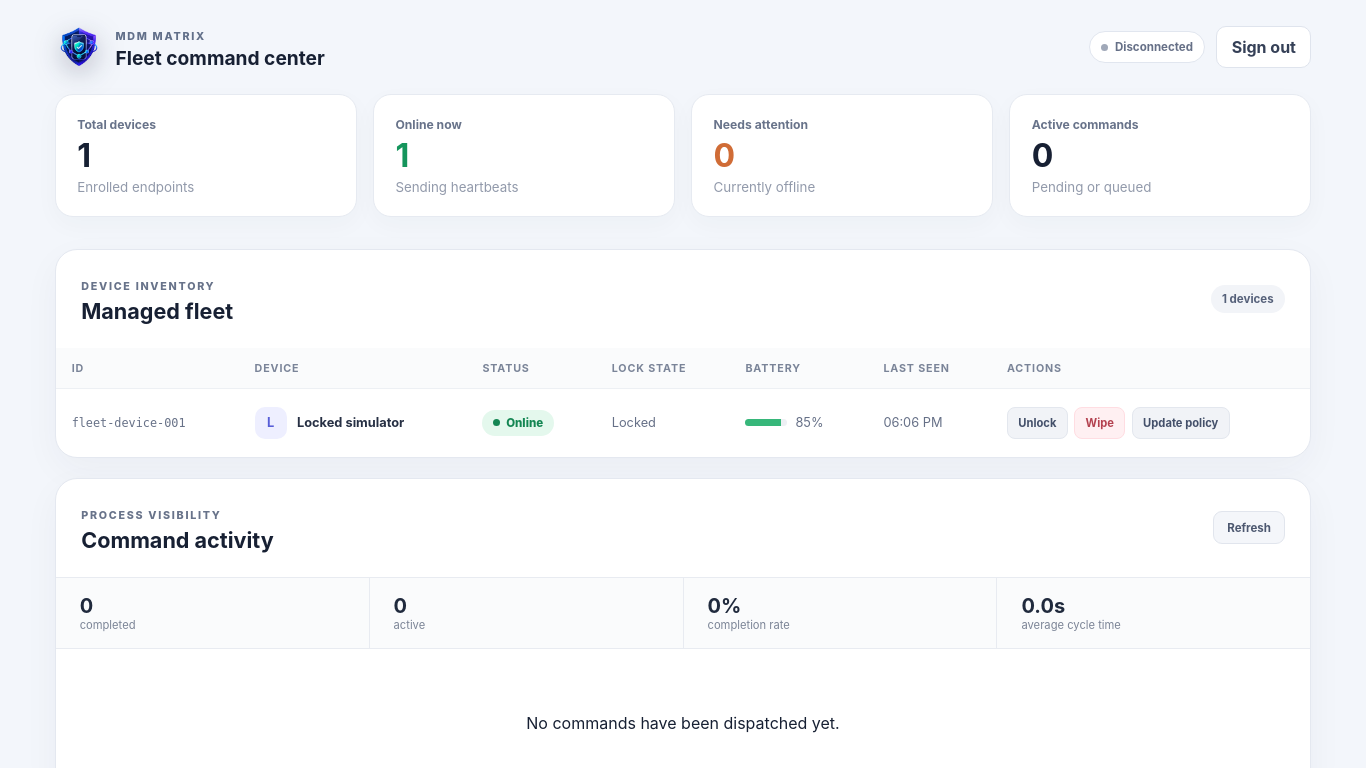
Scenario: MDM Matrix admin workflow › restores a locked device and offers Unlock after reload
Click the button "Unlock": (1038, 423) [1007,407,1068,438]
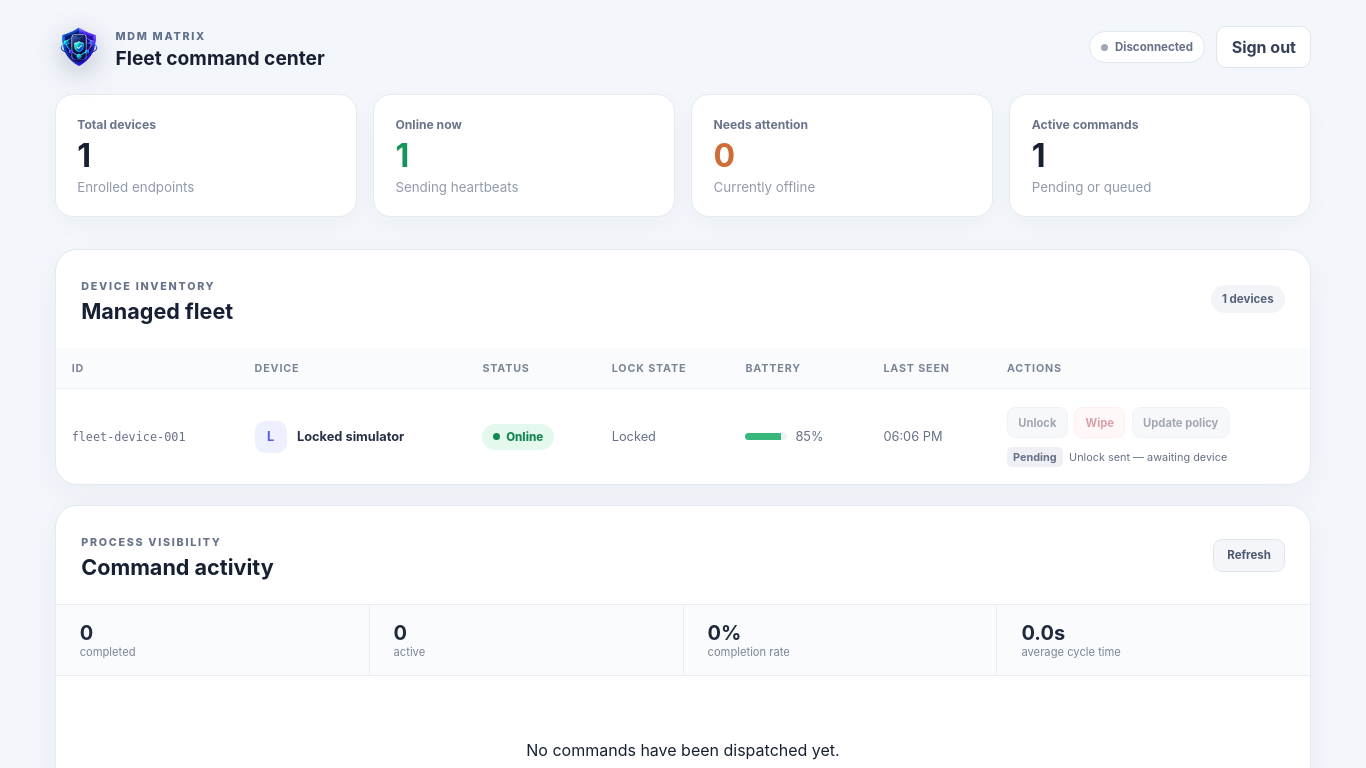
Result: the text "Unlock sent" is shown at [1069,450,1227,464]
